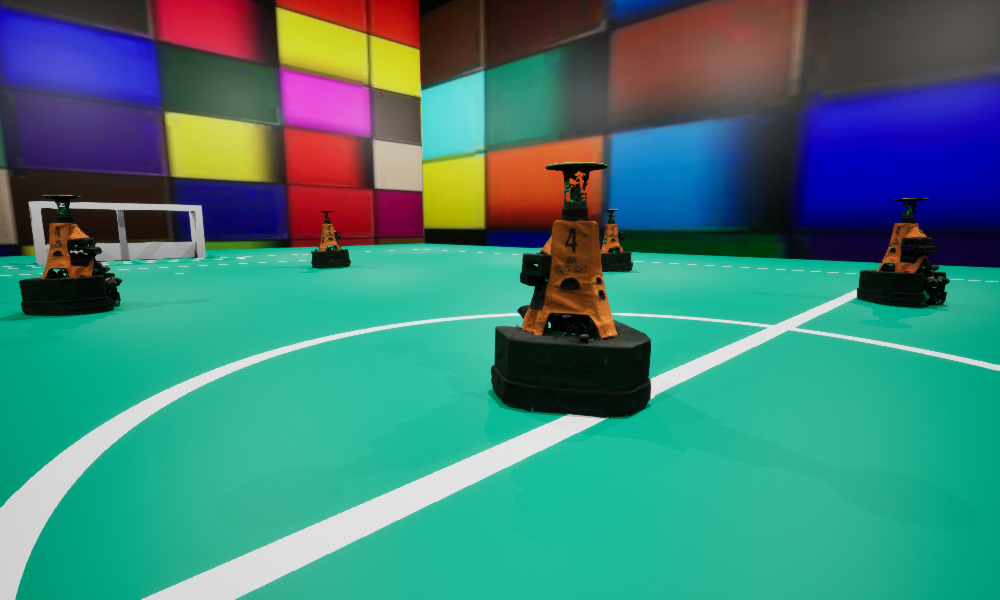0 orange robot TechUnited: (491, 162, 650, 417), (19, 195, 122, 315), (857, 198, 949, 307), (311, 211, 350, 268), (600, 209, 632, 271)
